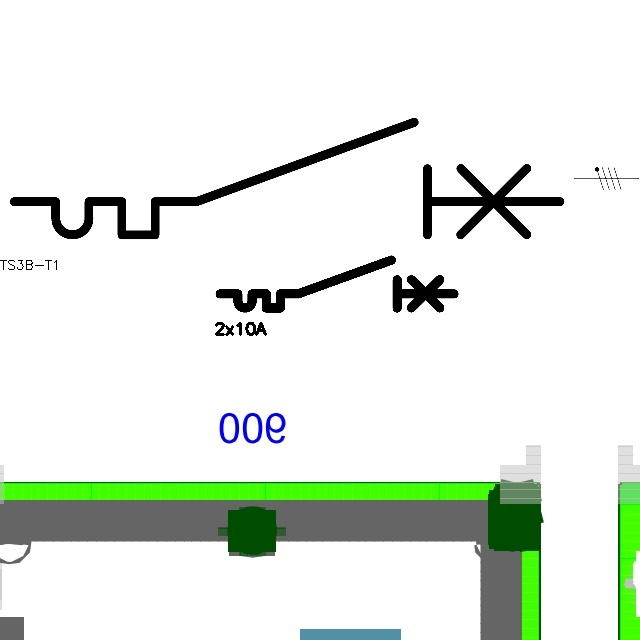interruptor_termomagnetico: (0, 108, 574, 249), (214, 254, 460, 314)
